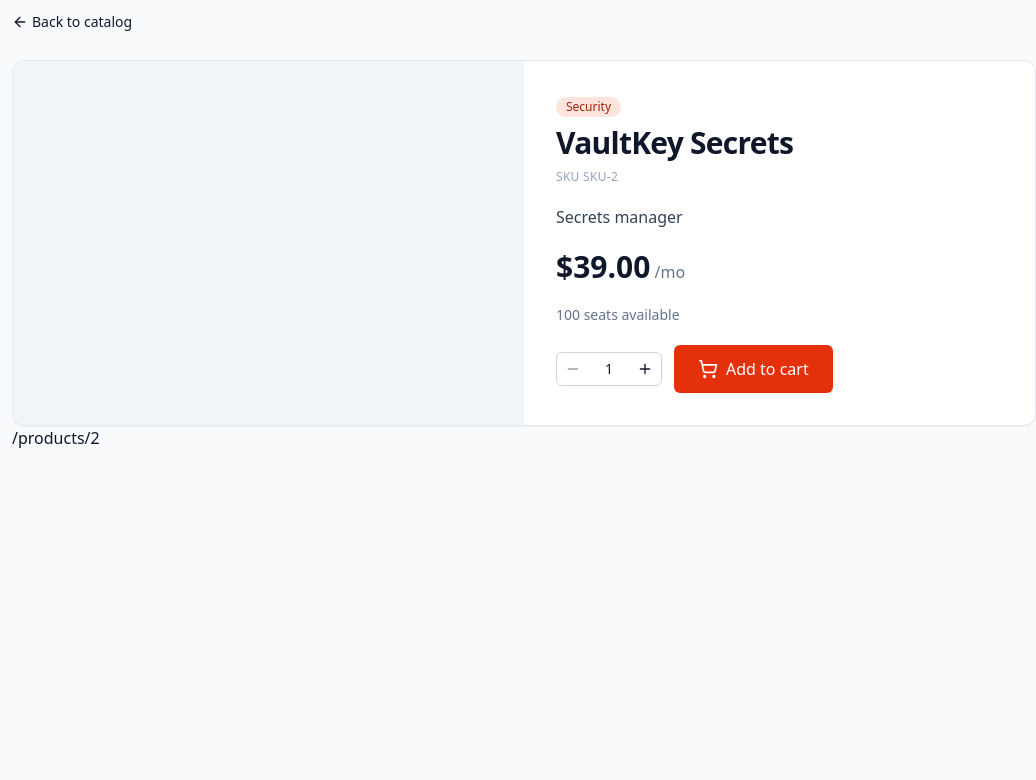
Scenario: ProductDetail page › adds the selected quantity to the cart
The image size is (1036, 780).
Expected: the heading "VaultKey Secrets" is shown, [556, 122, 793, 163]
Expected: the button named "decrease quantity" is disabled, [557, 353, 589, 385]
What coordinates should you click on to do the following:
click the button named "increase quantity"
I would click on:
 (645, 369)
Its box is [629, 353, 661, 385].
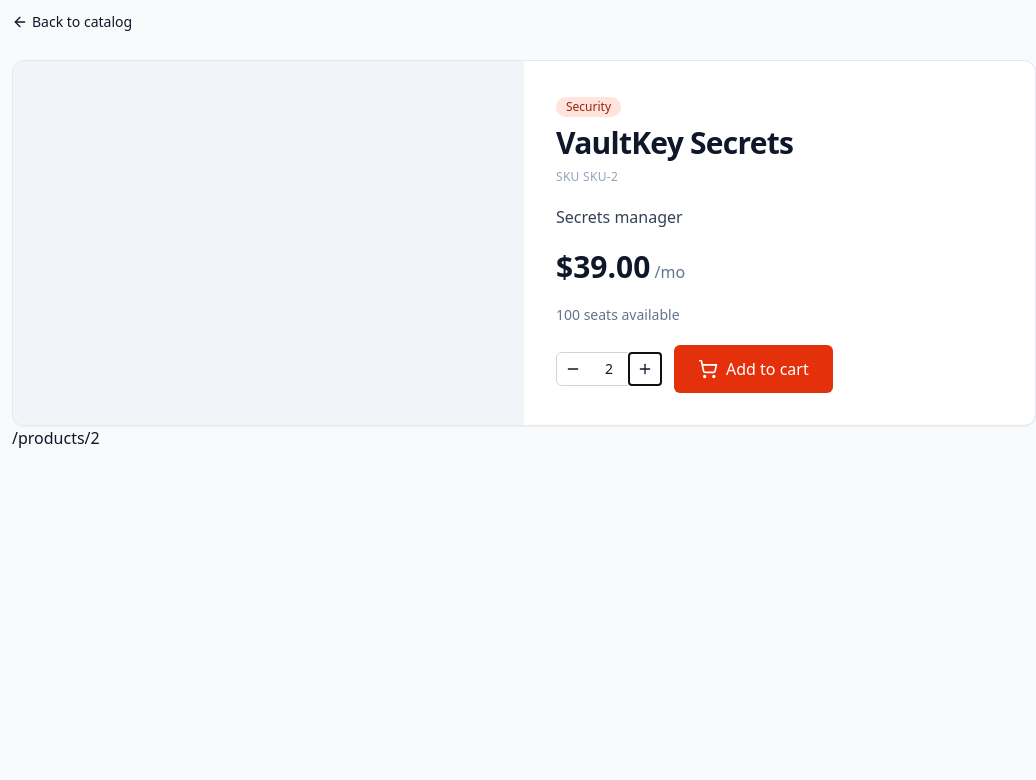
What coordinates should you click on to do the following:
click the button "Add to cart"
I would click on:
 (753, 369)
Its box is [674, 345, 833, 393].
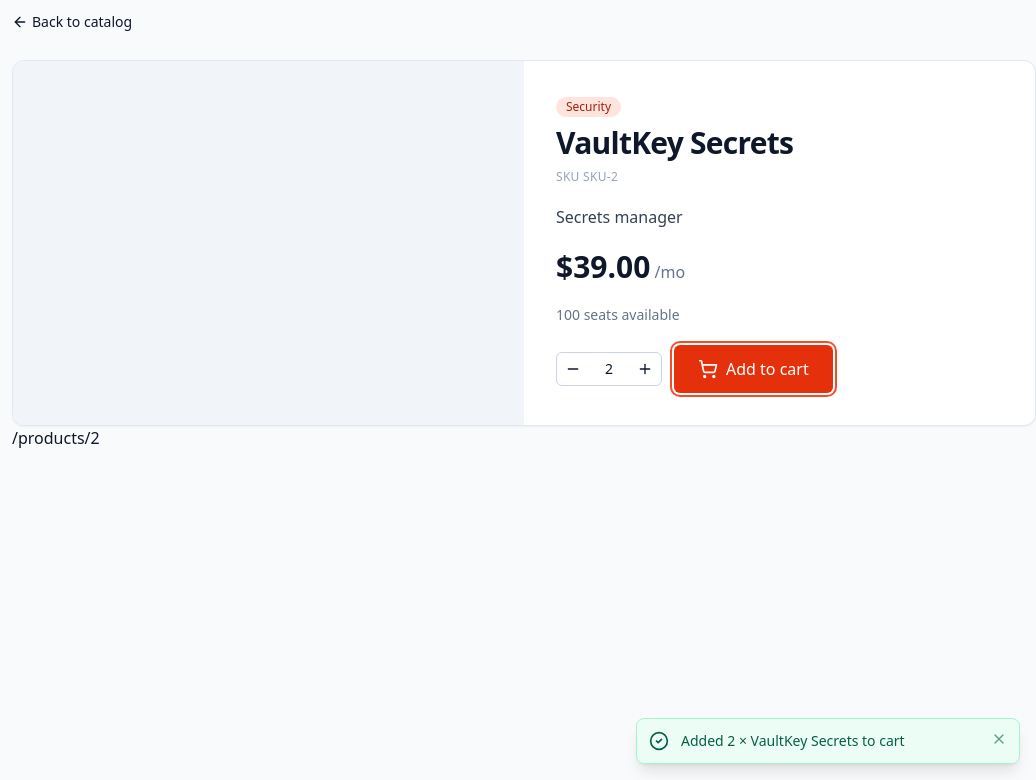
Now the text "Added 2 × VaultKey Secrets to cart" is shown, box [681, 731, 905, 750]
